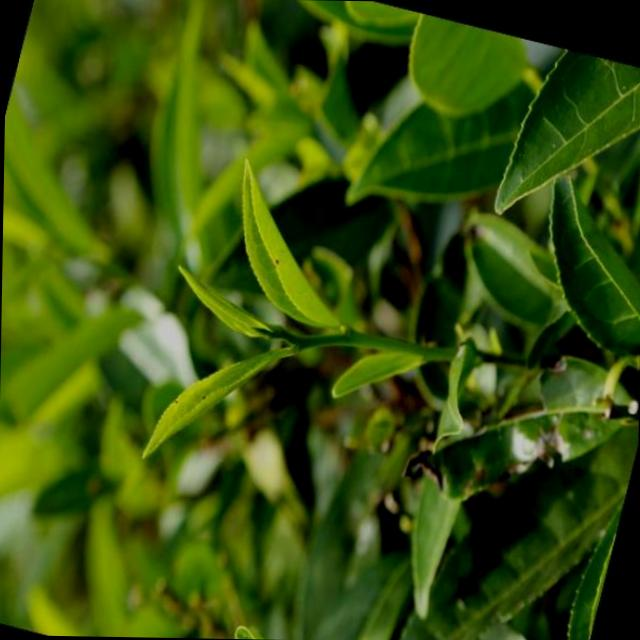Stem: (343, 329, 358, 345)
